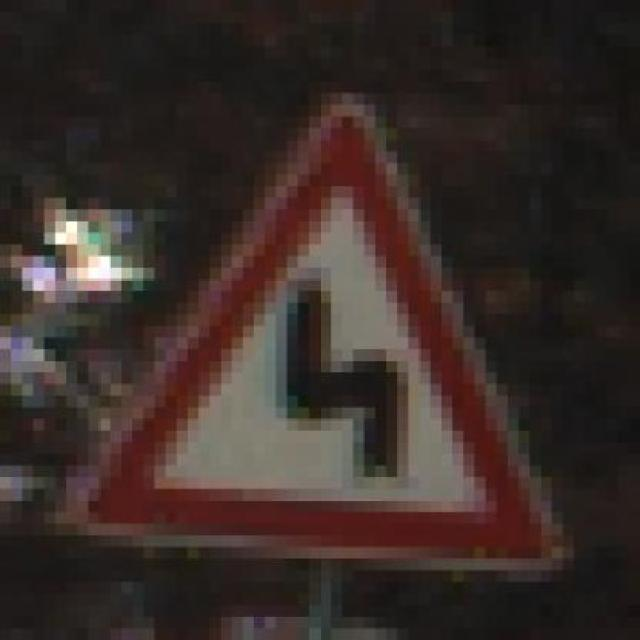Left Zig Zag Traffic: (44, 93, 596, 582)
